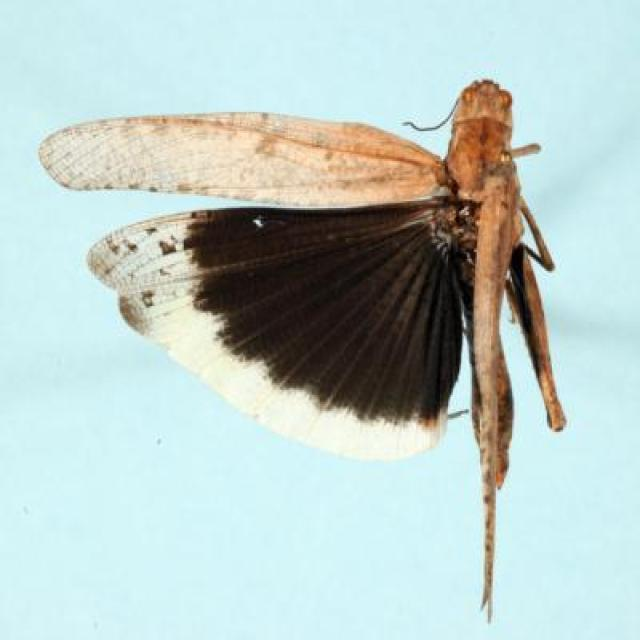antennae: (401, 102, 463, 132)
body: (446, 81, 518, 489)
insect: (47, 72, 565, 630)
legs: (515, 182, 572, 430), (522, 198, 563, 278)
wings: (45, 121, 469, 450)
